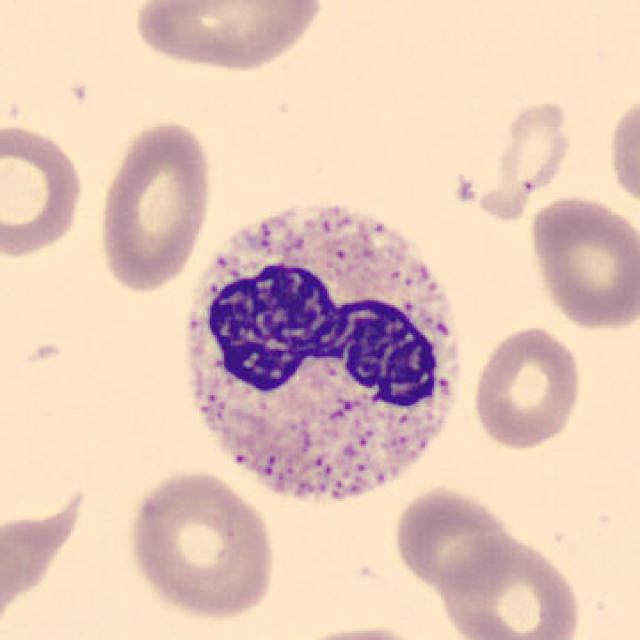Neutrophil: (160, 187, 478, 524)
RBC: (123, 466, 279, 622), (92, 115, 217, 296), (435, 530, 584, 640), (524, 192, 638, 333), (460, 94, 578, 228), (468, 321, 586, 451), (130, 0, 327, 76), (0, 479, 92, 636), (390, 483, 518, 592), (0, 116, 89, 263), (604, 88, 640, 213), (281, 620, 432, 640)
